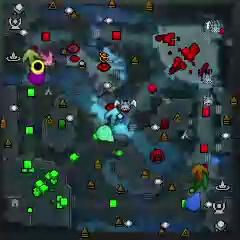p1: (187, 192, 202, 210)
p2: (96, 125, 113, 142)
p3: (28, 70, 45, 84)
p4Clone: (32, 60, 44, 72)
x1: (38, 50, 53, 64)
x2: (24, 49, 38, 64)
x3: (106, 106, 123, 125)
x4: (193, 171, 208, 190)
x5: (192, 164, 208, 180)
